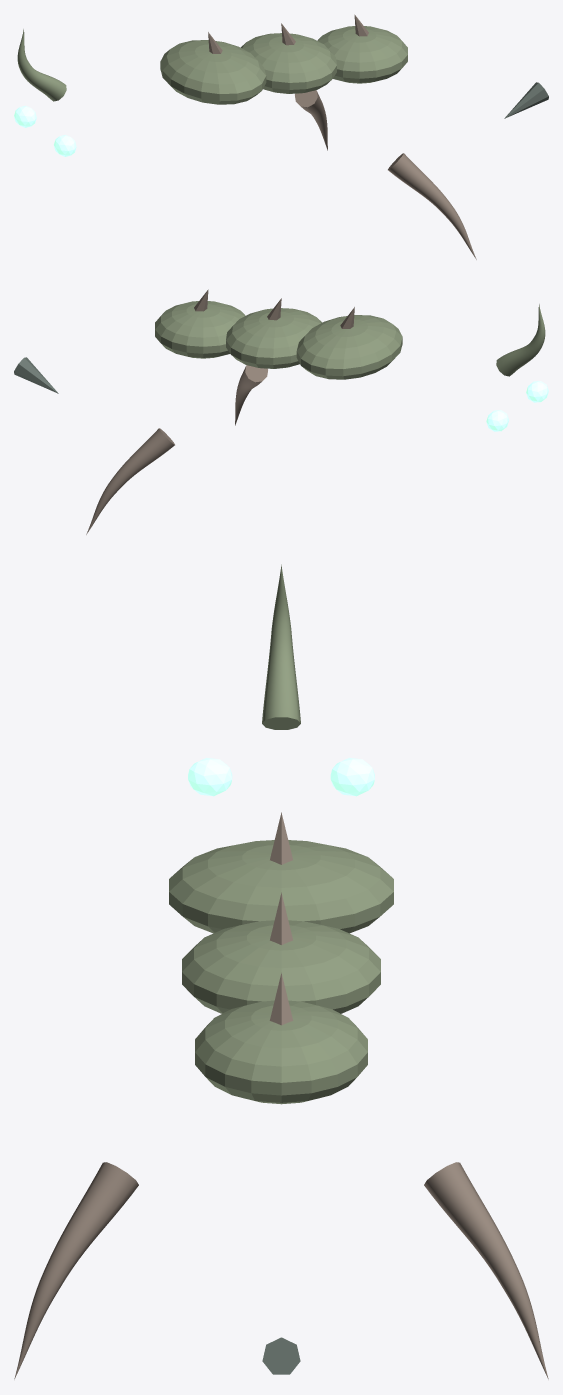
The model's file is mob_locust-decor.glb.
3 views of the same model, one above another, from view 1: azimuth 30°, elevation 25°; view 2: azimuth 150°, elevation 25°; view 3: azimuth 270°, elevation 25° (orthographic). The views are drawn at different scales.
Parts seen in each view (by area): view 1: mob_locust_decor; view 2: mob_locust_decor; view 3: mob_locust_decor.
Boxes of the visible parts, bbox=[...] form: mob_locust_decor: bbox=[14, 14, 548, 259]; mob_locust_decor: bbox=[14, 289, 548, 534]; mob_locust_decor: bbox=[14, 564, 548, 1379].
Size of the model in its own units: 1.23 by 0.6 by 0.6.
